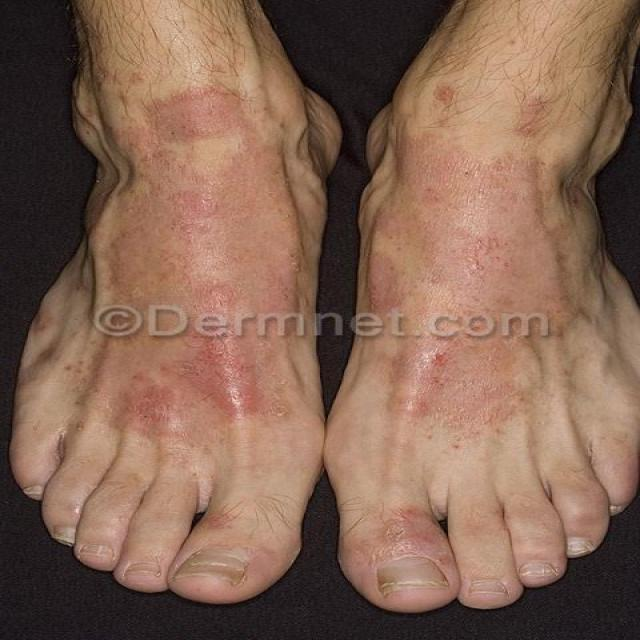Eczema: (101, 78, 306, 428), (374, 65, 571, 411)
